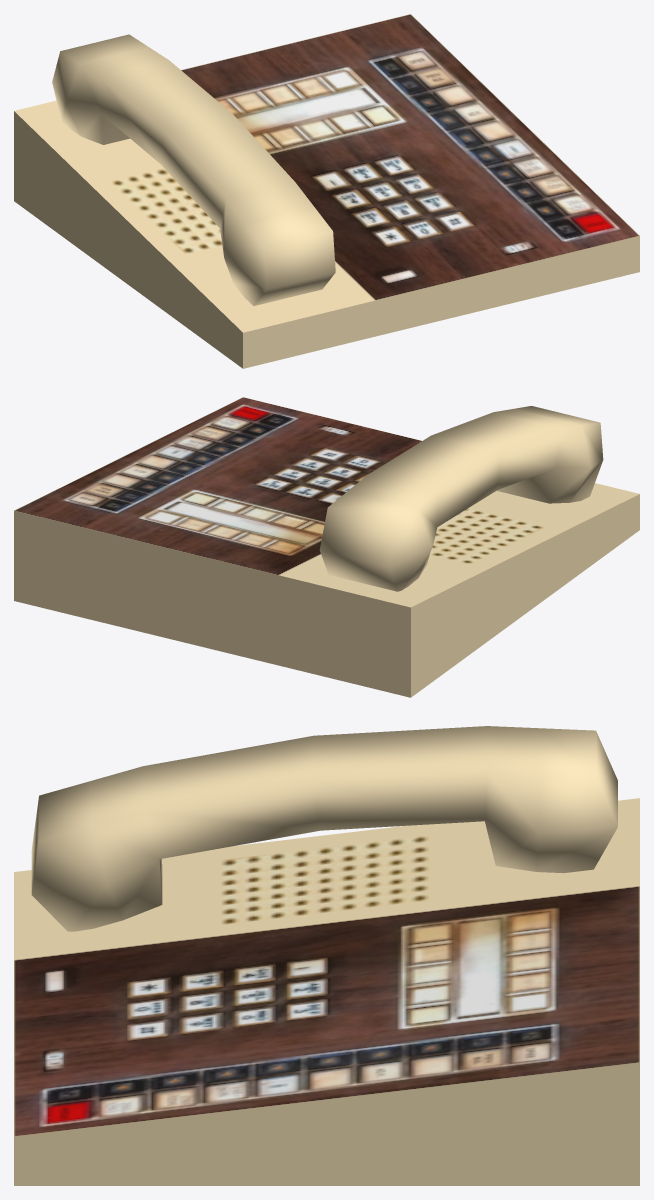
The model's file is office_phone.fbx.
3 views of the same model, one above another, from view 1: azimuth 30°, elevation 25°; view 2: azimuth 150°, elevation 25°; view 3: azimuth 270°, elevation 25° (orthographic). The views are drawn at different scales.
Parts seen in each view (by area): view 1: office_phone; view 2: office_phone; view 3: office_phone.
Part boxes in pixels (x1,y1,x2,y2): office_phone: (14, 14, 639, 368); office_phone: (14, 397, 639, 697); office_phone: (14, 726, 639, 1185).
Size of the model in its own units: 23 by 8.74 by 23.
